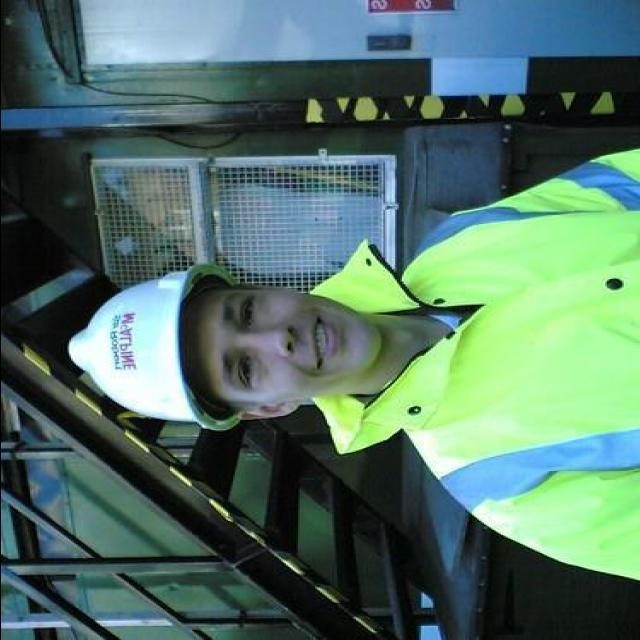helmet: (56, 244, 238, 436)
jacket: (276, 152, 640, 584)
